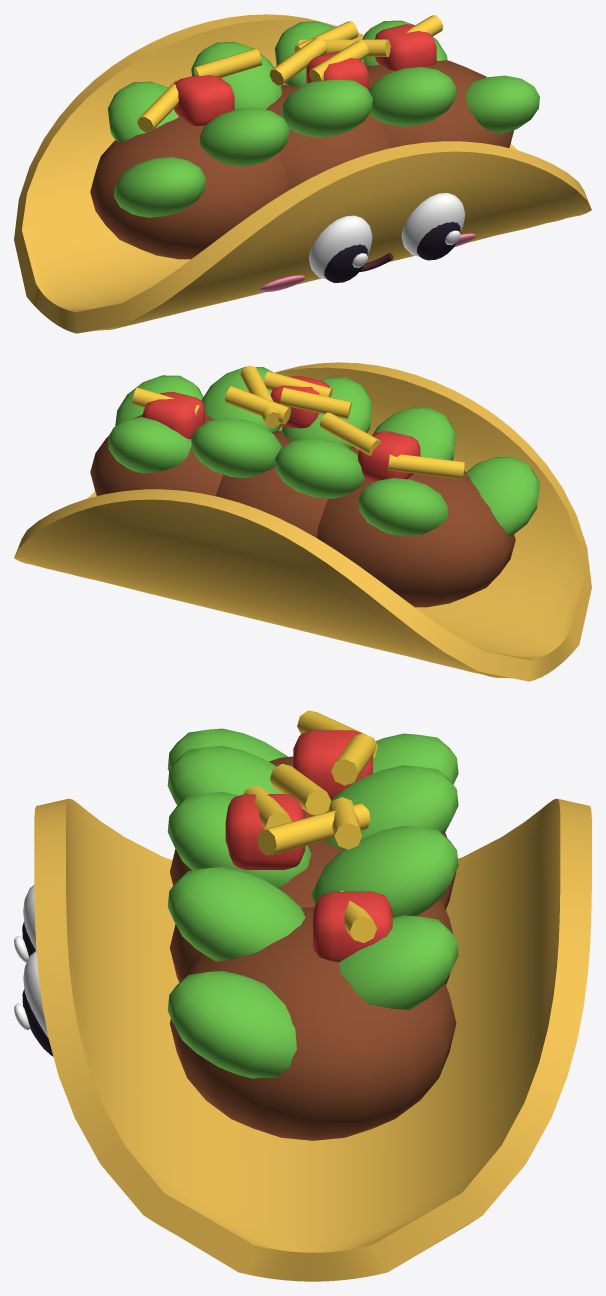
The model's file is Taco.fbx.
3 renders of one model, top to bottom at view 1: azimuth 30°, elevation 25°; view 2: azimuth 150°, elevation 25°; view 3: azimuth 270°, elevation 25°, orthographic. The views are drawn at different scales.
Parts seen in each view (by area): view 1: Shell_F2C14E, Lettuce_6CC94A, Meat_8A4A2A, Cheese_FFD23F, Tomato_E8403A, Eyes_FFFFFF, Pupils_241B2F, Blush_FF8FAB; view 2: Shell_F2C14E, Lettuce_6CC94A, Meat_8A4A2A, Cheese_FFD23F, Tomato_E8403A; view 3: Shell_F2C14E, Lettuce_6CC94A, Meat_8A4A2A, Tomato_E8403A, Cheese_FFD23F, Eyes_FFFFFF, Pupils_241B2F.
Part boxes in pixels (left/top/right/bottom): Shell_F2C14E: left=14, top=14, right=591, bottom=333; Lettuce_6CC94A: left=107, top=20, right=539, bottom=217; Meat_8A4A2A: left=90, top=60, right=513, bottom=259; Cheese_FFD23F: left=137, top=15, right=443, bottom=132; Tomato_E8403A: left=174, top=24, right=436, bottom=126; Eyes_FFFFFF: left=308, top=193, right=465, bottom=279; Pupils_241B2F: left=324, top=221, right=460, bottom=282; Blush_FF8FAB: left=259, top=233, right=476, bottom=292; Shell_F2C14E: left=14, top=362, right=591, bottom=681; Lettuce_6CC94A: left=107, top=366, right=539, bottom=536; Meat_8A4A2A: left=90, top=413, right=515, bottom=607; Cheese_FFD23F: left=132, top=365, right=464, bottom=479; Tomato_E8403A: left=142, top=376, right=420, bottom=481; Shell_F2C14E: left=34, top=798, right=591, bottom=1281; Lettuce_6CC94A: left=167, top=728, right=458, bottom=1078; Meat_8A4A2A: left=170, top=756, right=456, bottom=1140; Tomato_E8403A: left=225, top=730, right=392, bottom=961; Cheese_FFD23F: left=244, top=710, right=377, bottom=942; Eyes_FFFFFF: left=23, top=885, right=48, bottom=1037; Pupils_241B2F: left=22, top=922, right=53, bottom=1056.
Bounding box in the file's own units: 2.17 × 0.8942 × 1.45.
